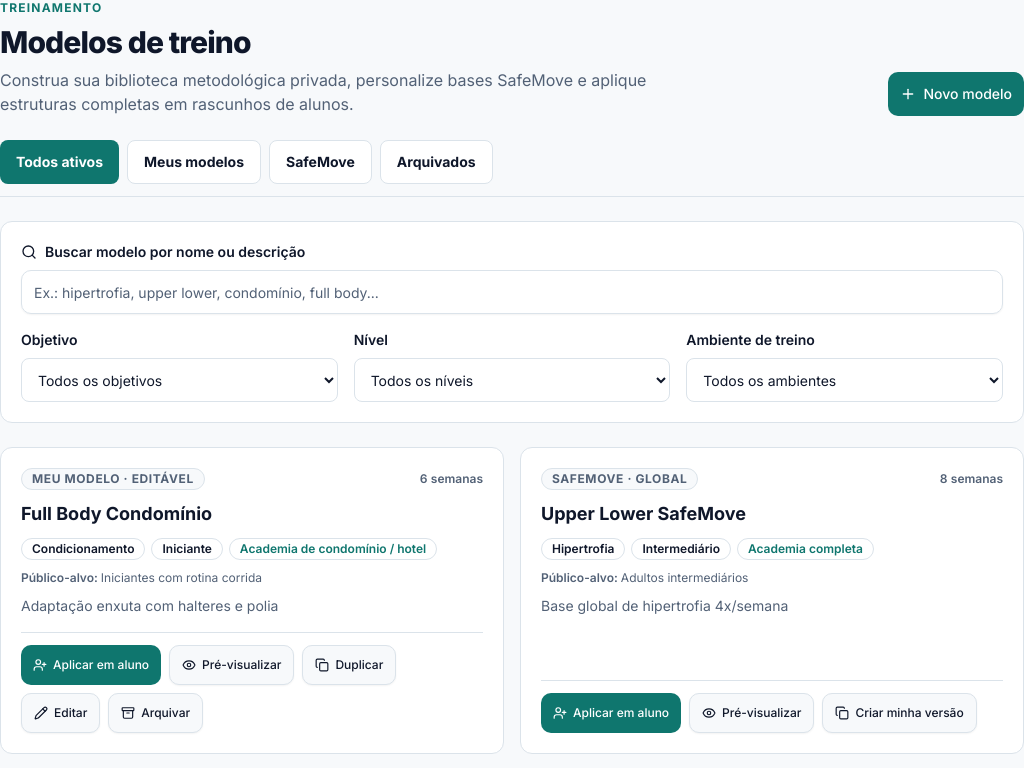
Test: WorkoutTemplatesHub › edits an existing private template
This screenshot has width=1024, height=768.
expect the heading "Full Body Condomínio" is shown: met, box [21,503,212,524]
Click the button with aria-label "Editar Full Body Condomínio".
click(61, 713)  # box [21,693,100,733]
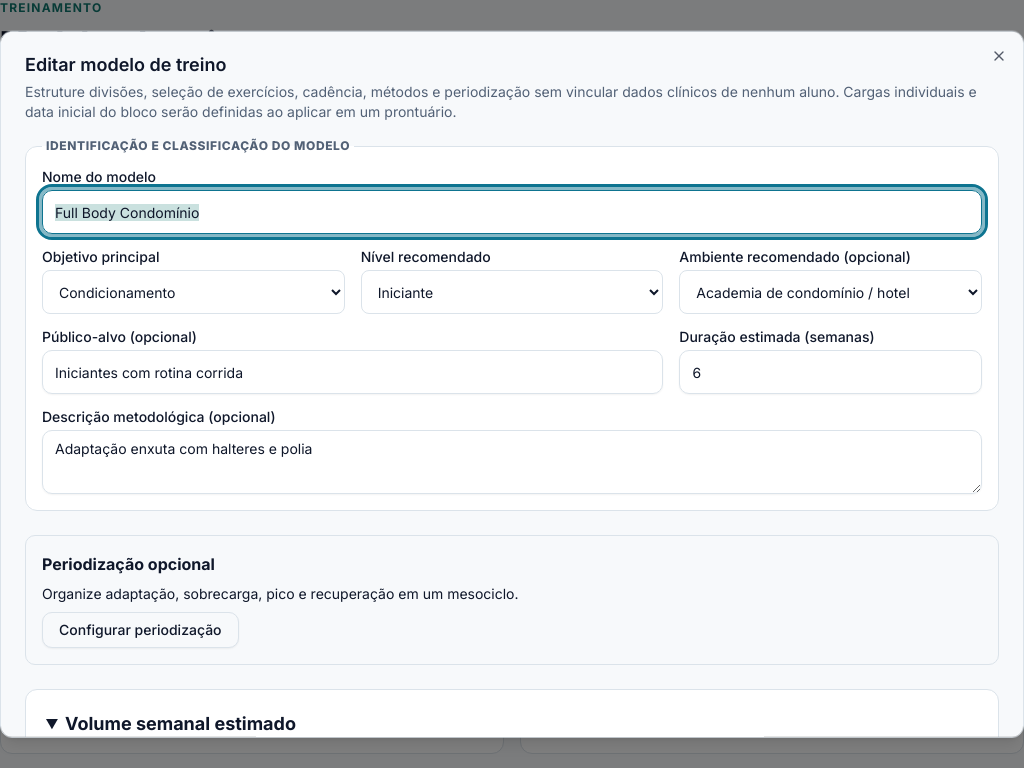
Replace the text in the field labelled "Nome do modelo" with "Full Body Condomínio v2" at x=512, y=212, box [42,190,982,234]
(page scrolled)
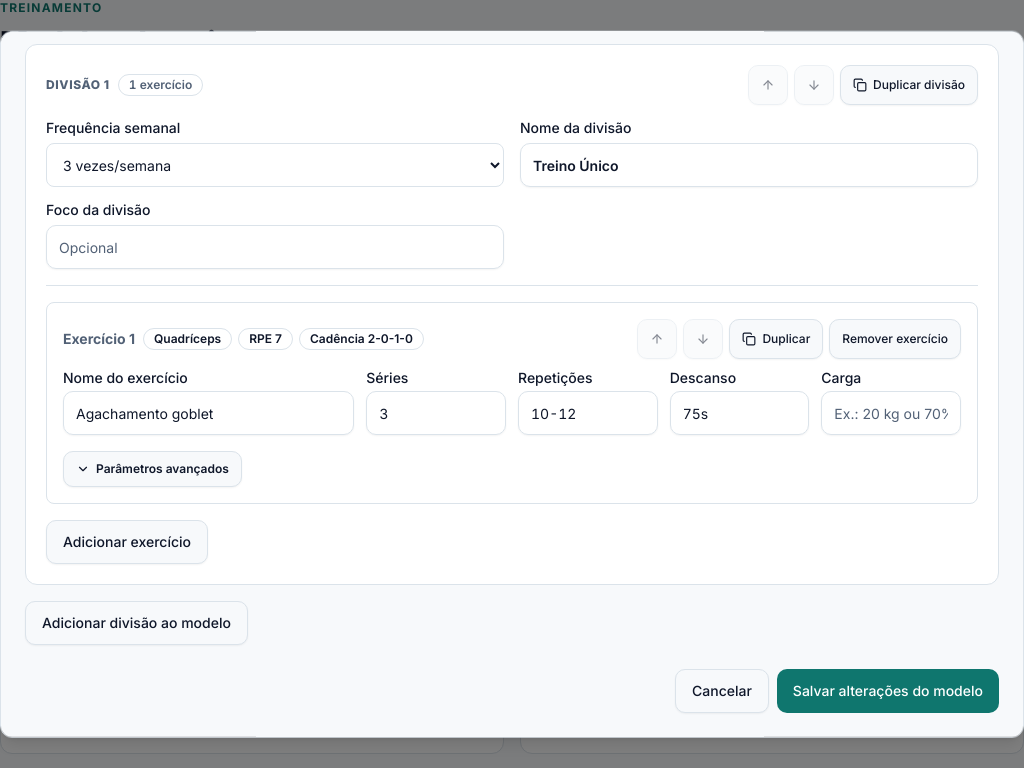
Click the button "Salvar alterações do modelo".
click(888, 691)  # box [777,669,999,713]
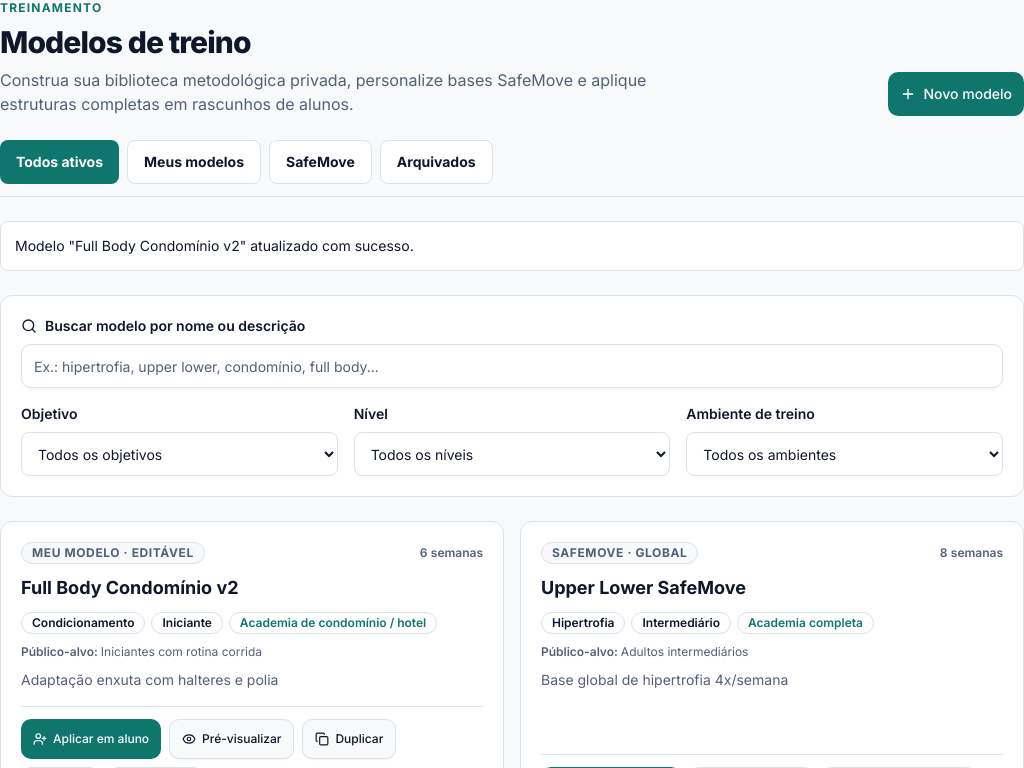
expect the text "Modelo \"Full Body Condomínio v2\" atualizado com sucesso." is shown: met, box [15,236,414,256]
expect the heading "Full Body Condomínio v2" is shown: met, box [21,577,238,598]
